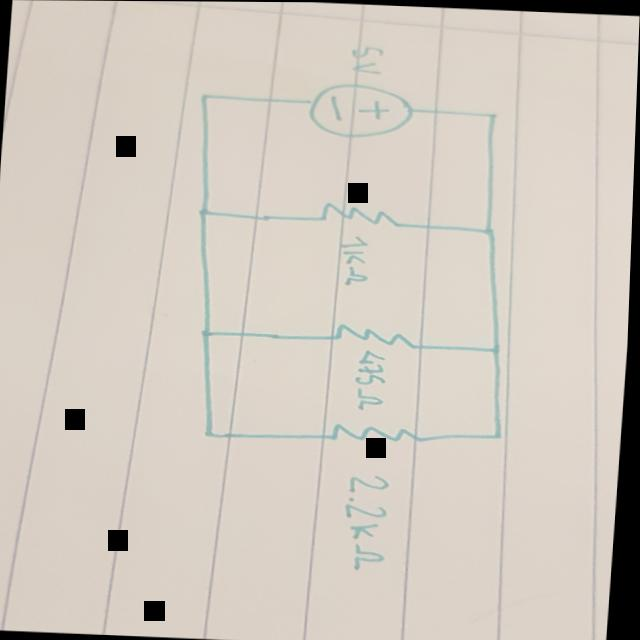junction: (474, 222, 508, 236), (483, 341, 512, 357), (195, 325, 225, 340), (488, 426, 514, 443), (480, 108, 506, 123), (193, 205, 216, 220), (202, 426, 227, 439), (199, 91, 216, 104)
resistor: (327, 421, 429, 449), (330, 322, 420, 351), (316, 199, 401, 229)
source: (308, 81, 415, 139)
text: (343, 473, 401, 571), (348, 347, 394, 412), (338, 232, 377, 289), (346, 42, 389, 75)
